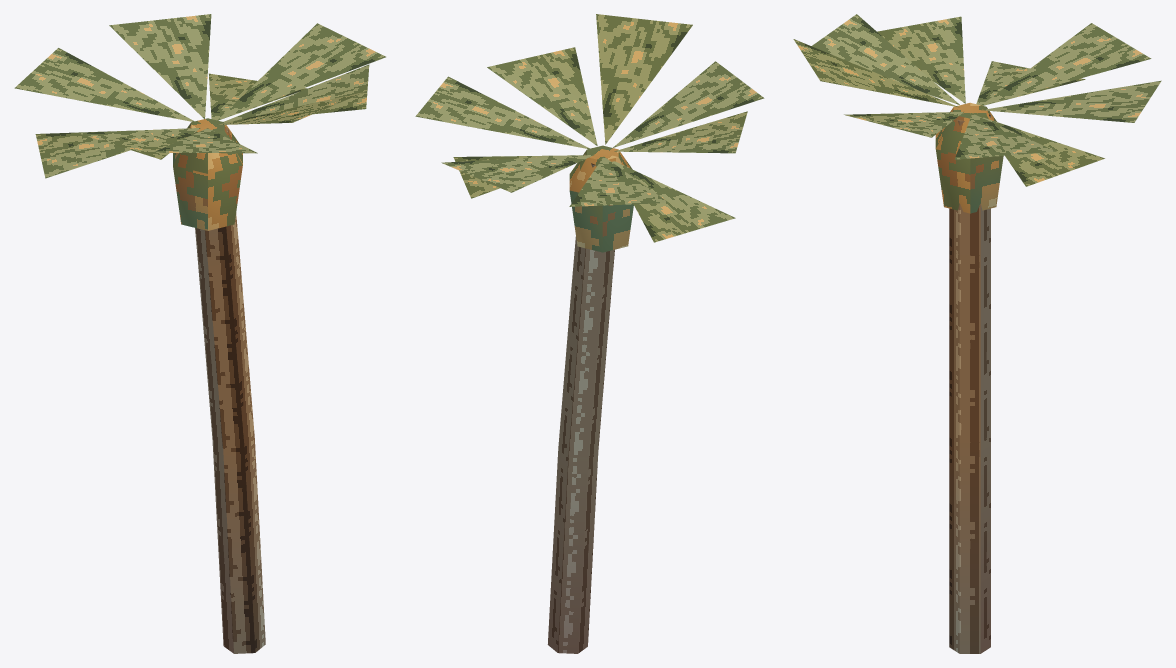
Rendered from wland.palm.glb.
The picture shows the model from 3 angles, left to right: view 1: azimuth 30°, elevation 25°; view 2: azimuth 150°, elevation 25°; view 3: azimuth 270°, elevation 25°; orthographic projection. The views are drawn at different scales.
Visible parts, largest first — view 1: kit_card_fronds_back, kit_trunks, kit_skirts; view 2: kit_card_fronds_back, kit_trunks, kit_skirts; view 3: kit_card_fronds_back, kit_trunks, kit_skirts.
Part boxes in pixels (bbox=[...]): kit_card_fronds_back: bbox=[14, 14, 385, 178]; kit_trunks: bbox=[195, 127, 265, 653]; kit_skirts: bbox=[173, 118, 242, 230]; kit_card_fronds_back: bbox=[415, 14, 764, 242]; kit_trunks: bbox=[547, 154, 622, 653]; kit_skirts: bbox=[569, 145, 633, 252]; kit_card_fronds_back: bbox=[793, 14, 1161, 186]; kit_trunks: bbox=[949, 114, 990, 653]; kit_skirts: bbox=[935, 102, 1003, 213].
Bounding box in the file's own units: 3.86 × 6.87 × 3.9.
Materials: 3 (3 with a texture image).
